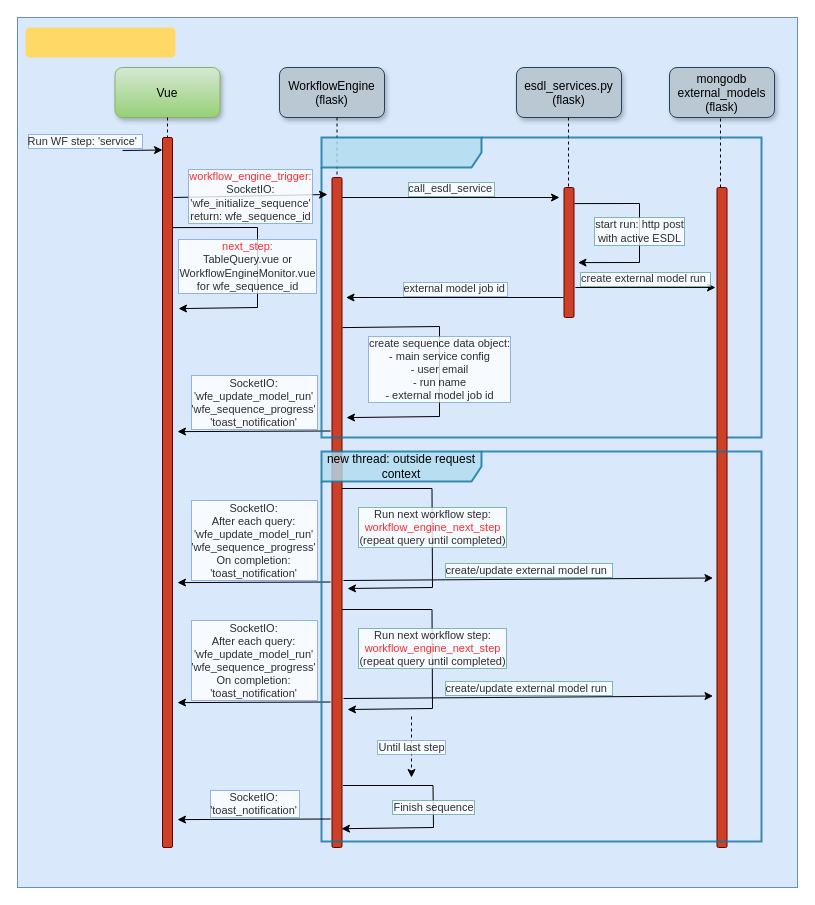
Some shapes in this 815 by 905 pixel diagram are drawn without their labels. Here are the shapes that lost their labels. From the top down, the centre of each, then its label:
(100,42): Workflow Engine
(541,287): inside request context
